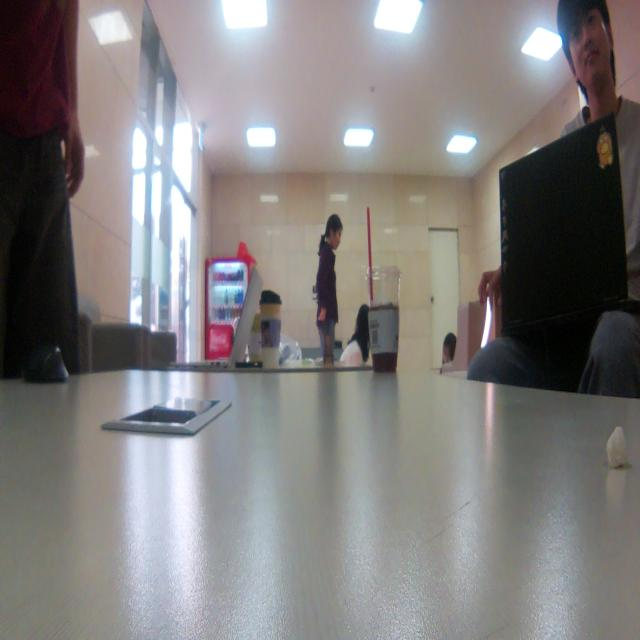target: (323, 338, 335, 375)
